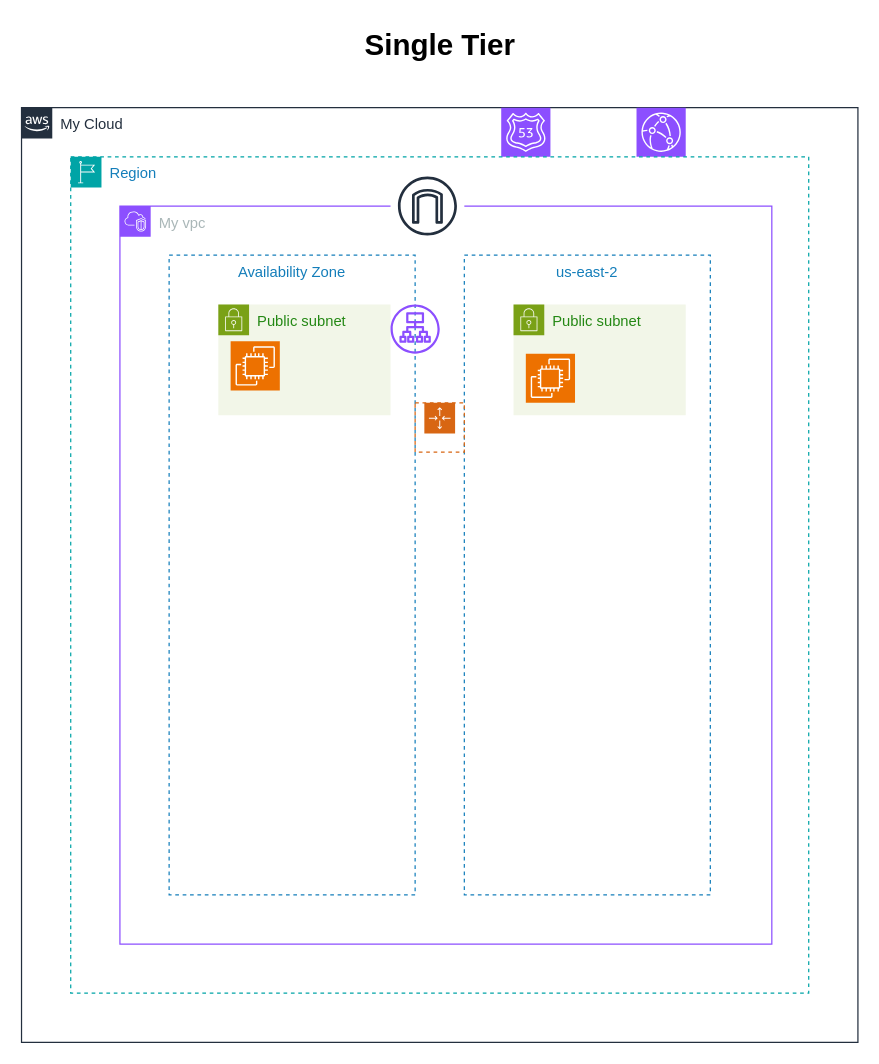
The diagram is 879 pixels wide and 1064 high, and some of its shapes have lost their labels. The centre of each missing label's shape, as x and y in pixels:
Auto Scaling group: the point at 439,427
Internet gateway: the point at 426,205
